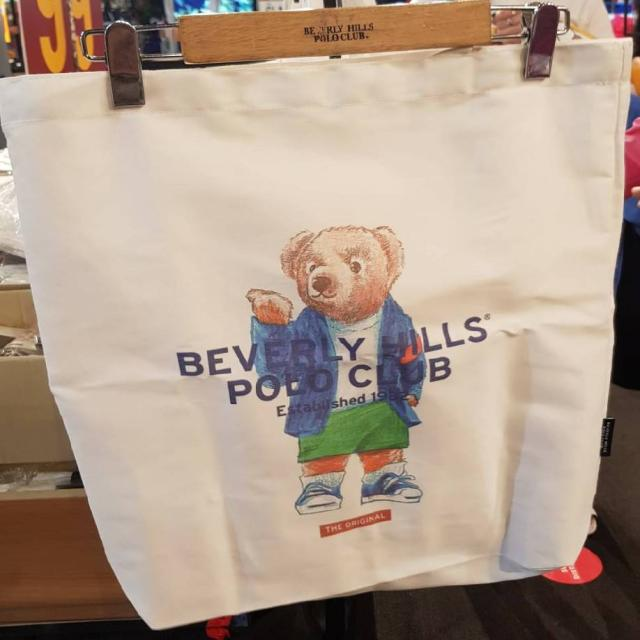handbag: (7, 0, 623, 640)
